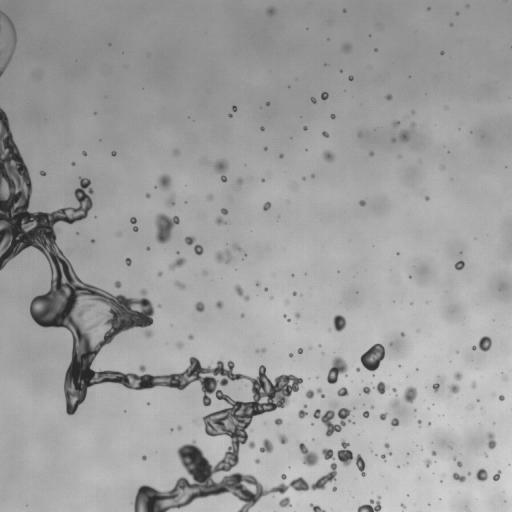droplet: (313, 402, 353, 436), (155, 213, 179, 243), (360, 343, 384, 372), (327, 356, 348, 383), (299, 442, 319, 466), (357, 496, 381, 511), (214, 160, 227, 182), (472, 336, 491, 351), (403, 386, 417, 403), (333, 315, 346, 331), (158, 174, 171, 189), (215, 251, 231, 263), (169, 257, 185, 269), (374, 381, 388, 394), (260, 439, 273, 452), (487, 432, 496, 449), (476, 468, 487, 481), (323, 150, 334, 161), (453, 472, 465, 482), (279, 497, 291, 507), (298, 405, 307, 418), (399, 130, 409, 141), (194, 244, 203, 255), (195, 301, 204, 312), (337, 387, 348, 396), (185, 236, 195, 245), (454, 260, 464, 269), (449, 384, 459, 393), (278, 434, 287, 444), (215, 216, 226, 224), (390, 418, 399, 427), (493, 470, 500, 481), (175, 281, 184, 289), (342, 43, 350, 51), (263, 202, 271, 210), (454, 372, 462, 380), (267, 7, 274, 15), (321, 92, 328, 100), (167, 198, 174, 206), (144, 330, 152, 337), (392, 399, 399, 407), (274, 418, 282, 425), (433, 383, 439, 392), (216, 301, 223, 308), (363, 386, 370, 393), (379, 413, 386, 420), (424, 459, 431, 466), (233, 244, 241, 250), (322, 131, 329, 137), (125, 258, 131, 265), (359, 200, 365, 206), (221, 208, 227, 214), (115, 281, 121, 287), (177, 342, 183, 348), (363, 411, 369, 417), (311, 97, 316, 103), (232, 105, 237, 111), (393, 121, 399, 126), (237, 178, 242, 184), (297, 348, 303, 353), (498, 395, 504, 400), (281, 474, 286, 480), (348, 75, 353, 80), (386, 94, 391, 99), (173, 149, 178, 154), (384, 443, 389, 448), (400, 503, 405, 508), (471, 382, 475, 388), (330, 114, 335, 118), (111, 151, 116, 155), (369, 151, 373, 156), (40, 171, 45, 175), (207, 195, 212, 199), (188, 335, 193, 339), (177, 425, 181, 430), (431, 451, 436, 455), (142, 455, 146, 460), (381, 454, 385, 459), (457, 461, 461, 466), (332, 486, 336, 491), (411, 122, 415, 126), (303, 126, 307, 130), (82, 151, 86, 155), (279, 154, 283, 158), (146, 193, 150, 197), (425, 196, 429, 200), (158, 272, 162, 276), (295, 313, 299, 317), (255, 459, 259, 463), (260, 127, 264, 130), (358, 132, 361, 136), (401, 332, 404, 336), (393, 388, 396, 392), (418, 420, 421, 424), (388, 451, 391, 455), (440, 51, 443, 54), (229, 114, 232, 117), (264, 147, 267, 150), (261, 179, 264, 182), (146, 247, 149, 250), (203, 271, 206, 274), (256, 282, 259, 285), (293, 292, 296, 295), (241, 314, 244, 317), (289, 353, 292, 356), (356, 368, 359, 371), (469, 406, 473, 408), (343, 9, 345, 12), (267, 102, 269, 105), (392, 139, 395, 141), (72, 162, 74, 165), (311, 175, 314, 177), (91, 239, 93, 242), (264, 288, 267, 290), (412, 111, 414, 113), (291, 274, 293, 276), (503, 376, 505, 378), (476, 399, 478, 401), (371, 406, 373, 408), (485, 454, 487, 456), (453, 457, 455, 459)
ligament: (0, 108, 333, 511), (0, 11, 16, 75), (337, 440, 365, 476), (235, 285, 249, 301), (306, 388, 324, 398), (130, 217, 138, 231), (310, 504, 325, 511), (284, 315, 290, 321), (257, 348, 265, 352), (0, 51, 1, 54)
